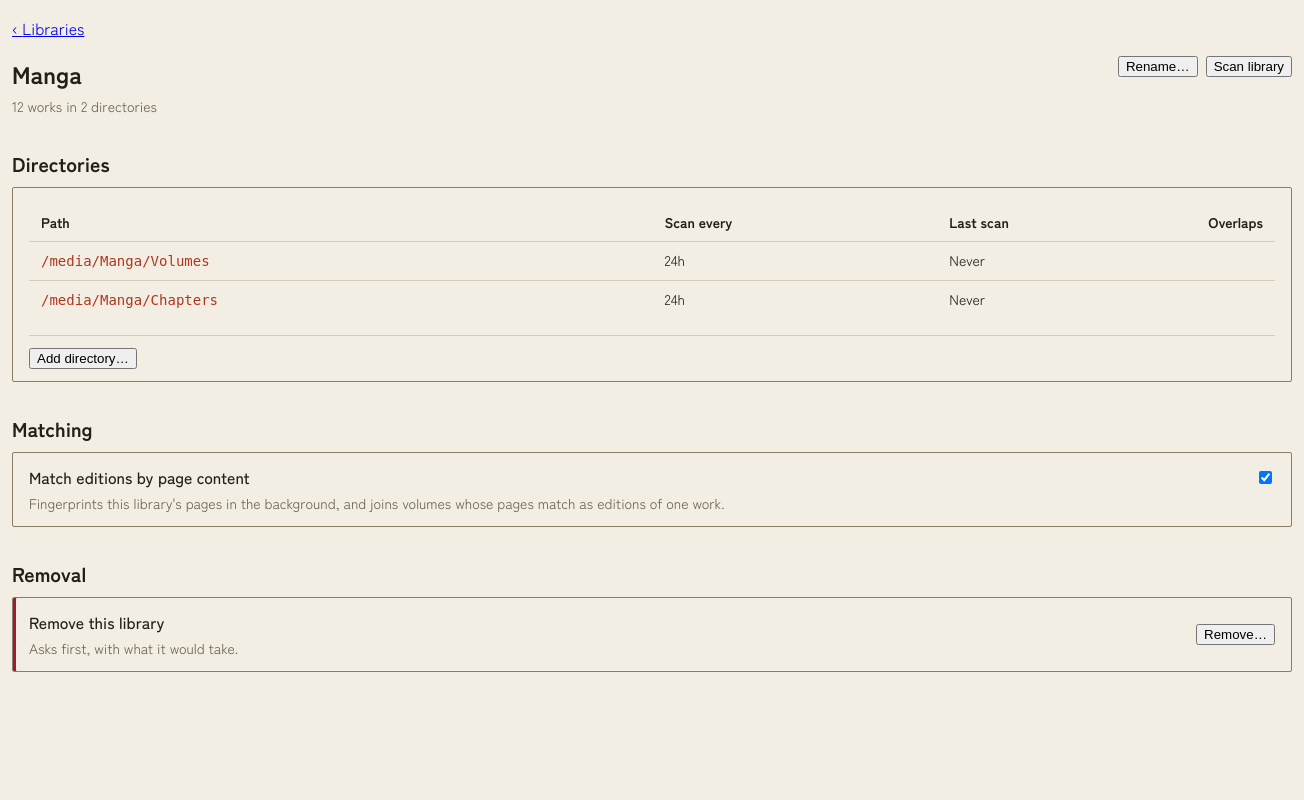
LibraryPage › draws a failed scan start as its sentence and no running scan
Click the button "Scan library" at [1249, 66], box [1206,56,1292,77]
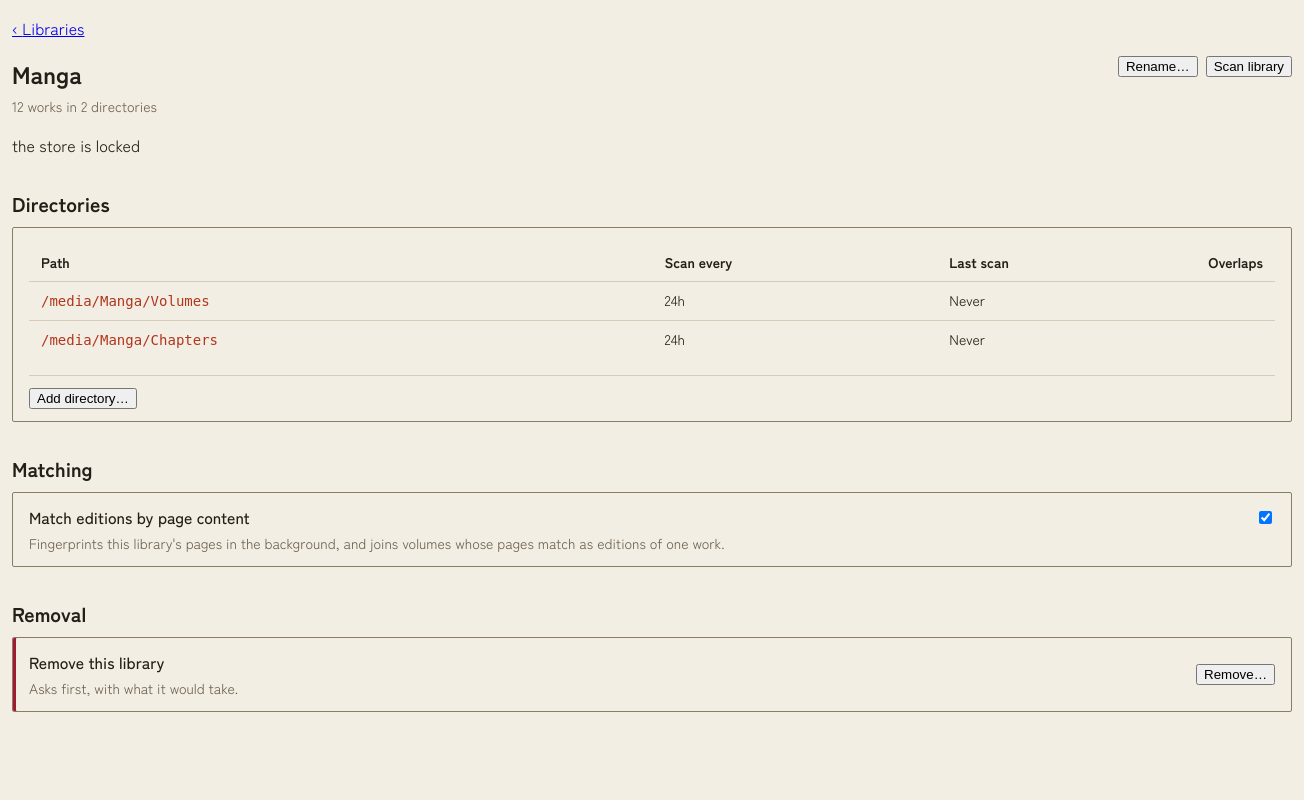
Now the message "the store is locked" is shown, box [12,133,140,157]
